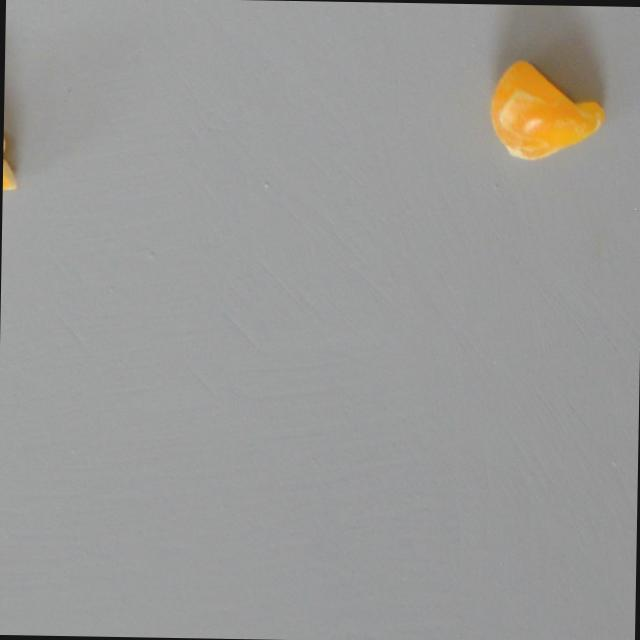dañado: (486, 56, 610, 164), (2, 112, 26, 195)
